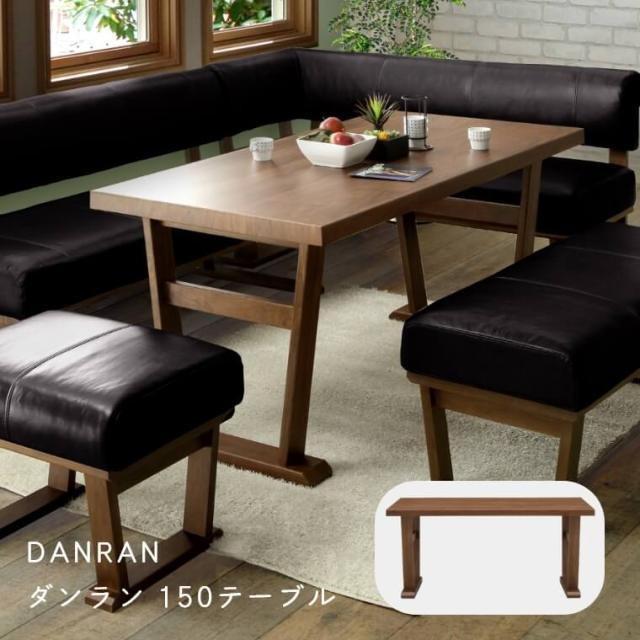natural desk: (91, 103, 588, 286)
